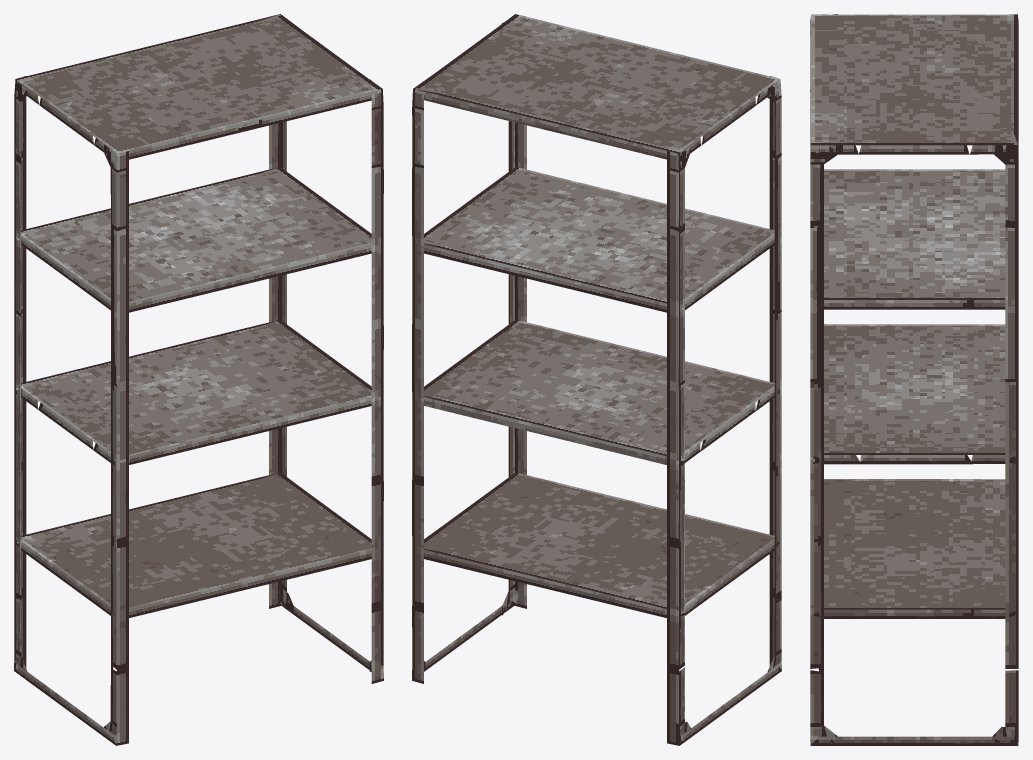
The model's file is worn_metal_rack.glb.
3 views of the same model, side by side, from view 1: azimuth 30°, elevation 25°; view 2: azimuth 150°, elevation 25°; view 3: azimuth 270°, elevation 25° (orthographic).
Visible parts, largest first — view 1: mesh; view 2: mesh; view 3: mesh.
Boxes of the visible parts, x1,y1,x2,y2 form: mesh: [14, 14, 383, 745]; mesh: [412, 14, 781, 745]; mesh: [810, 14, 1018, 745].
Size of the model in its own units: 0.9062 by 1.9 by 0.5972.
Materials: 1 (1 with a texture image).
